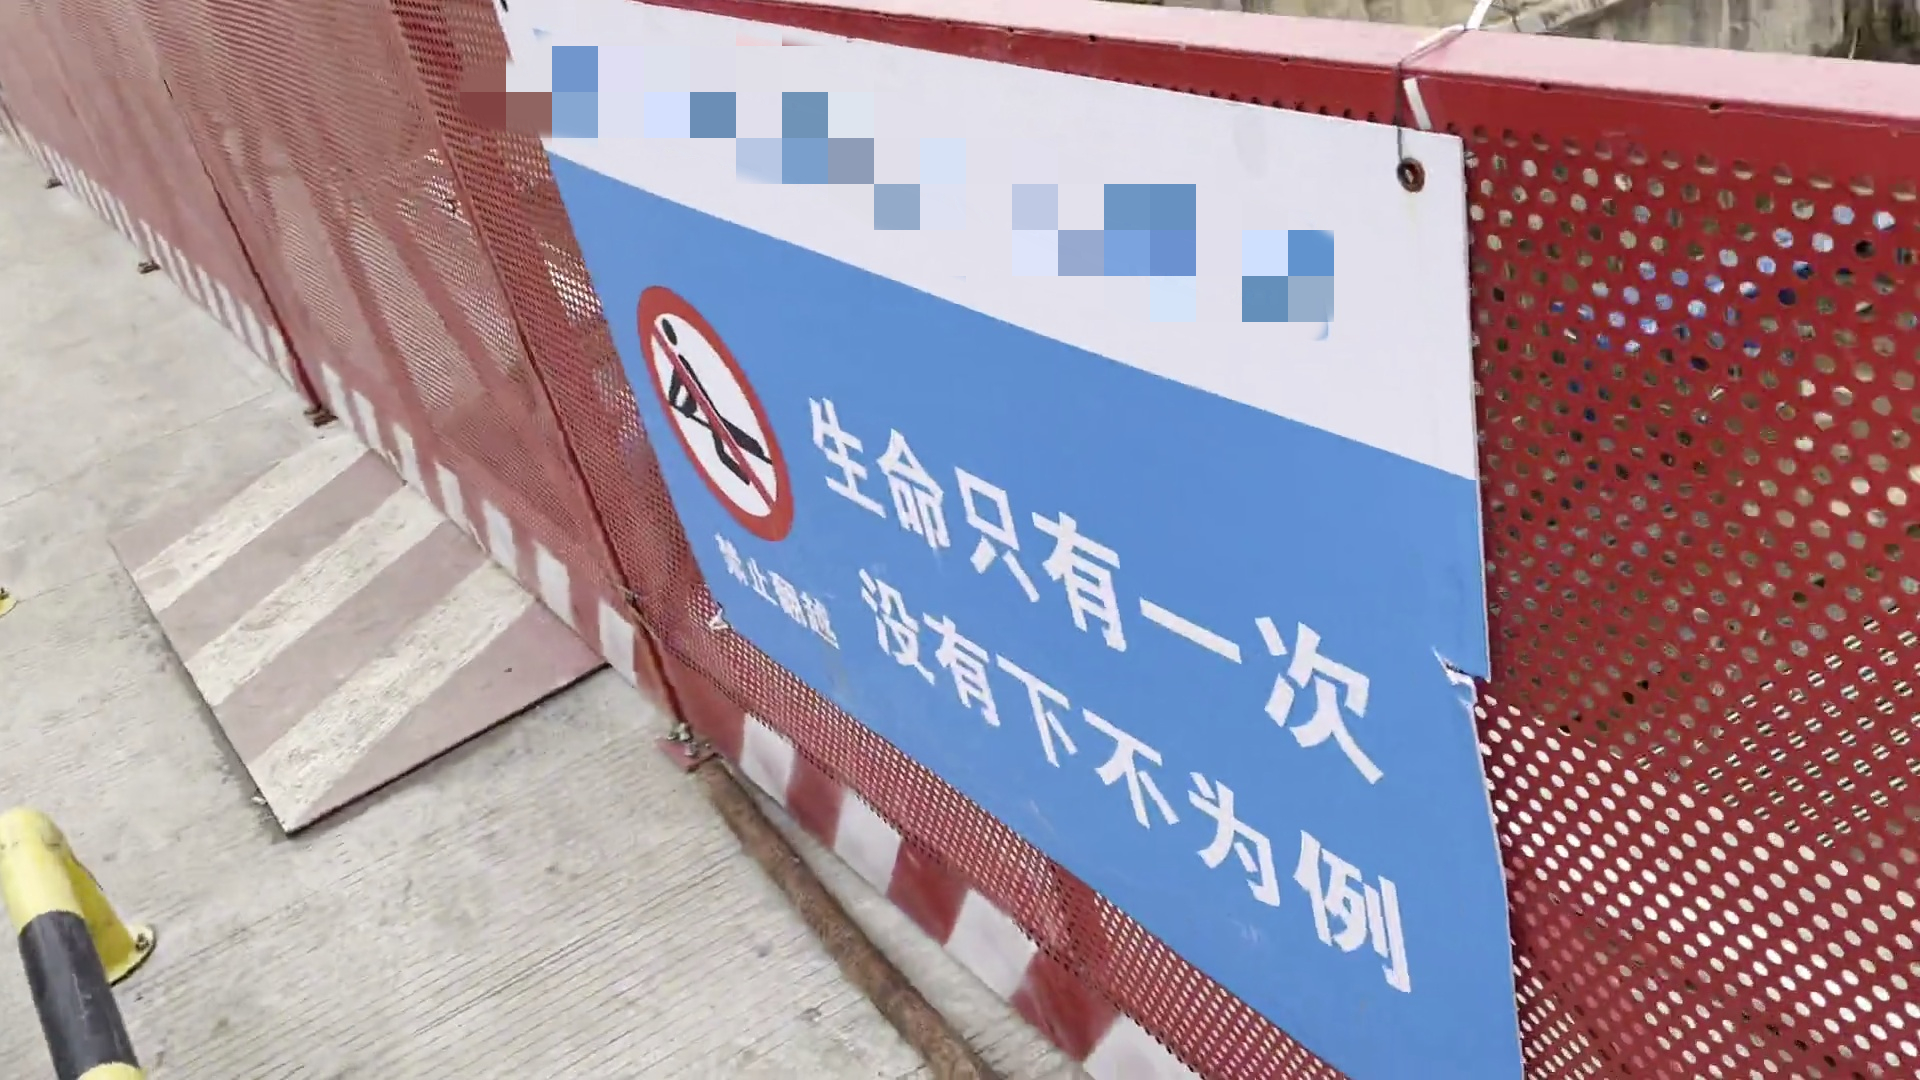fence: (702, 3, 1920, 1080), (1, 3, 707, 741)
slogan: (472, 3, 1648, 1080)
